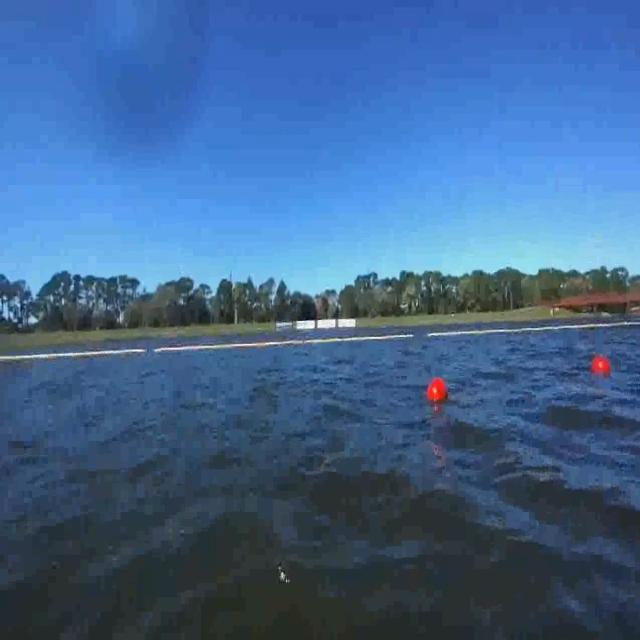red-buoy: (427, 375, 449, 401), (588, 356, 609, 377)
